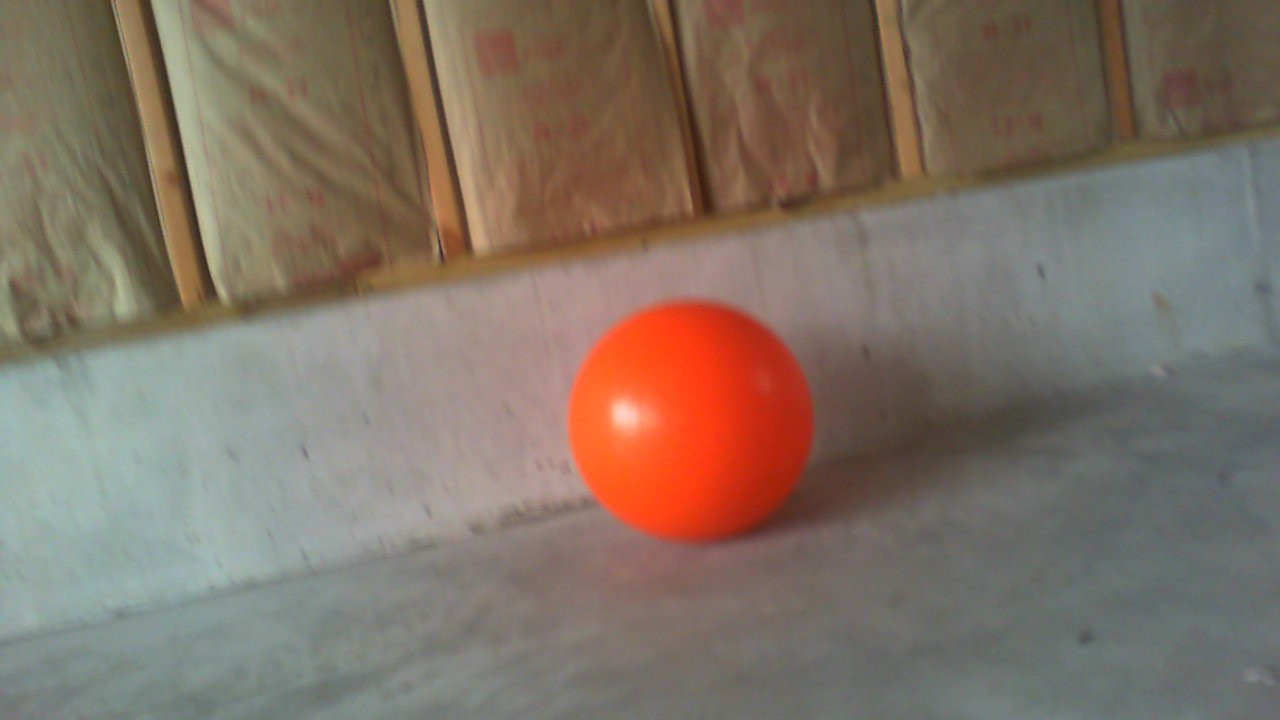Ball: (565, 299, 813, 540)
